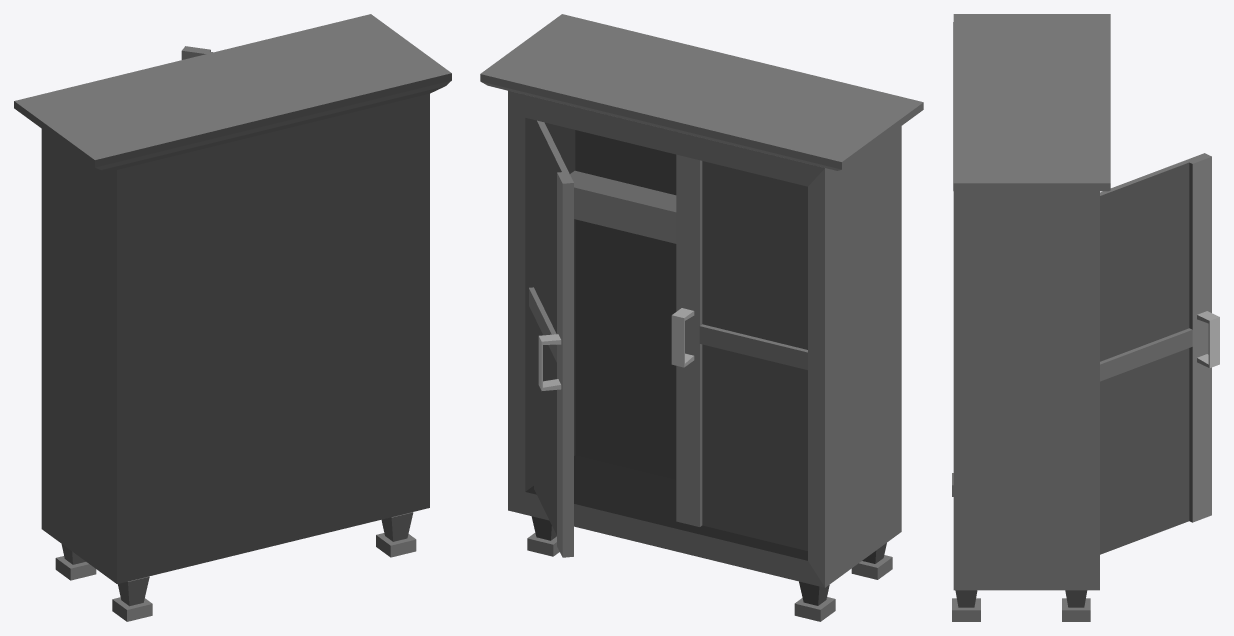
The model's file is WardrobeModel.fbx.
The picture shows the model from 3 angles, left to right: view 1: azimuth 30°, elevation 25°; view 2: azimuth 150°, elevation 25°; view 3: azimuth 270°, elevation 25°; orthographic projection. The views are drawn at different scales.
Visible parts, largest first — view 1: WardrobeModel; view 2: WardrobeModel; view 3: WardrobeModel.
Part boxes in pixels (x1=…): WardrobeModel: x1=14, y1=14, x2=451, y2=621; WardrobeModel: x1=480, y1=14, x2=923, y2=621; WardrobeModel: x1=952, y1=14, x2=1219, y2=621.
Size of the model in its own units: 191 by 240 by 128.
